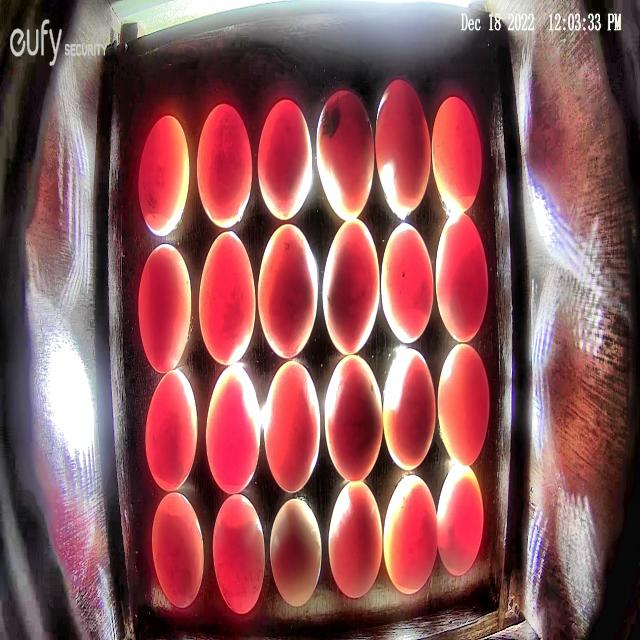FE: (258, 223, 318, 361), (322, 216, 380, 356), (199, 229, 256, 365), (324, 352, 383, 483), (264, 359, 321, 493), (375, 79, 431, 214), (317, 90, 374, 221), (205, 362, 261, 495), (435, 212, 489, 344), (196, 103, 252, 229), (138, 244, 192, 374), (382, 346, 437, 471), (257, 99, 313, 220), (382, 474, 438, 594), (144, 368, 198, 492), (137, 113, 190, 237), (380, 223, 434, 344), (437, 344, 490, 467), (212, 494, 266, 614), (328, 479, 382, 598), (150, 492, 204, 608), (431, 96, 483, 212), (269, 499, 322, 608), (438, 464, 483, 578)
